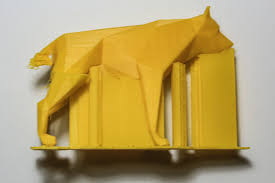fail: (21, 49, 57, 104)
